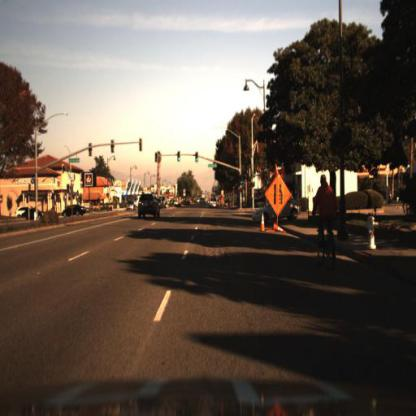biker: (311, 172, 339, 273)
car: (249, 192, 300, 232), (135, 189, 168, 223), (61, 203, 88, 221), (20, 207, 45, 226), (22, 208, 43, 222), (206, 195, 223, 212), (13, 207, 29, 222)
trafficLight-Green: (239, 174, 247, 189), (252, 165, 259, 181), (252, 169, 259, 185), (177, 150, 183, 166), (193, 151, 201, 163), (177, 151, 183, 164), (194, 154, 200, 167), (238, 177, 244, 188)
